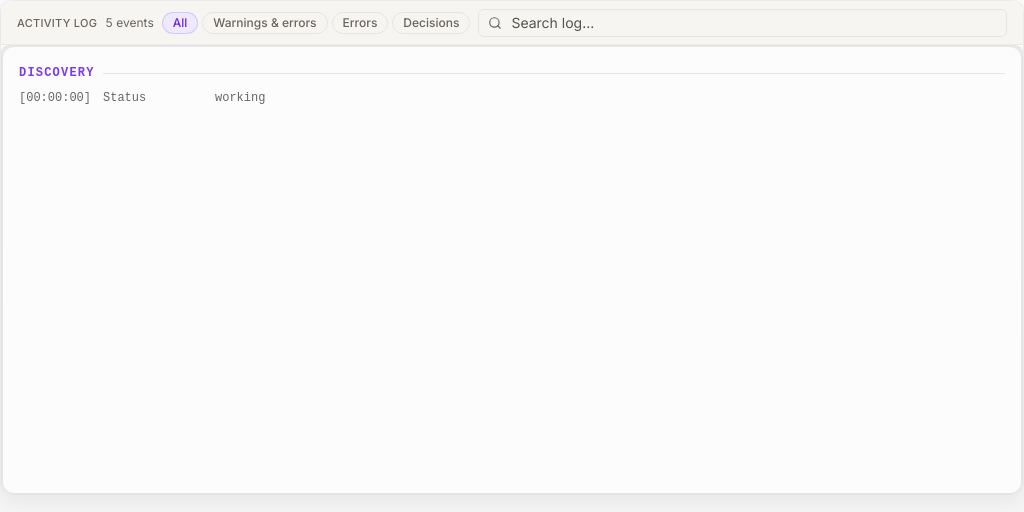
Scenario: ActivityLogPanel › says yet for an empty filter while the run is live
Click the button "Errors": click(360, 22) [332,12,388,34]
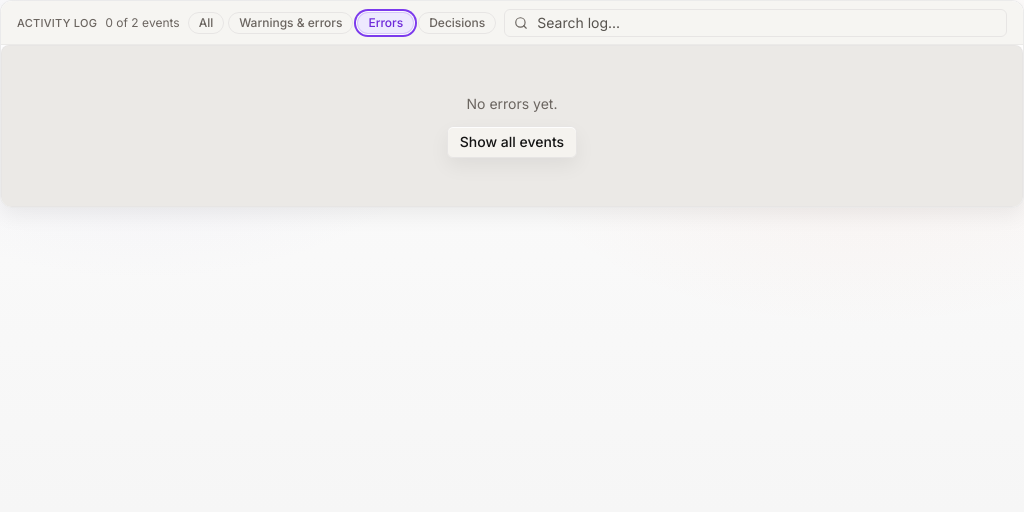
Result: the text "No errors yet." is shown at [466,94,558,114]
